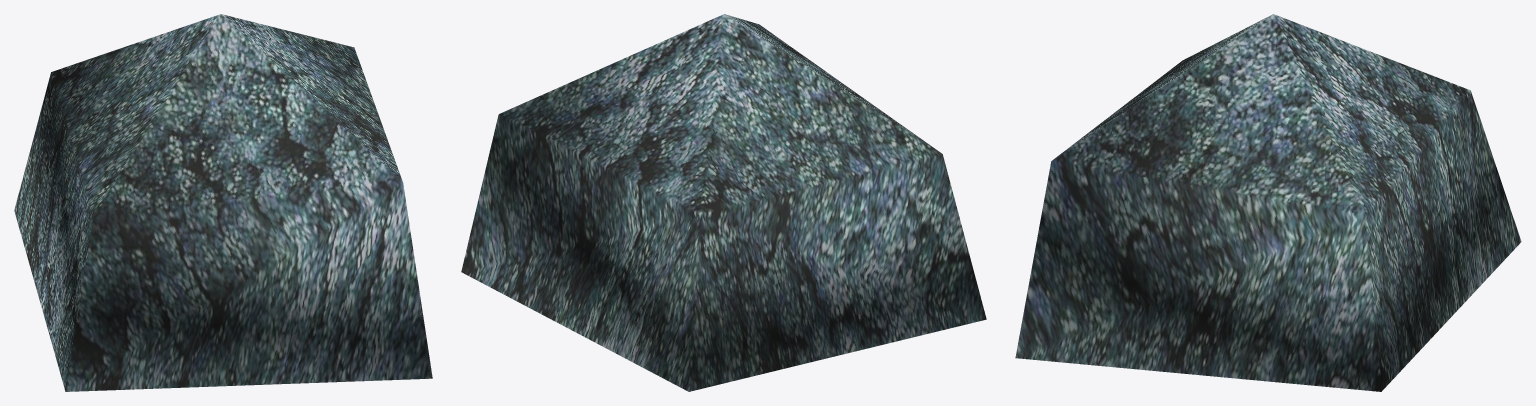
File: rock_crystl_watrbush_sm_l2.fbx
The picture shows the model from 3 angles, left to right: view 1: azimuth 30°, elevation 25°; view 2: azimuth 150°, elevation 25°; view 3: azimuth 270°, elevation 25°; orthographic projection. The views are drawn at different scales.
Visible parts, largest first — view 1: mesh_node; view 2: mesh_node; view 3: mesh_node.
Part boxes in pixels (x1,y1,x2,y2): mesh_node: (14, 14, 432, 391); mesh_node: (461, 14, 986, 391); mesh_node: (1015, 14, 1521, 391).
Bounding box in the file's own units: 1.89 × 1.44 × 1.95.
